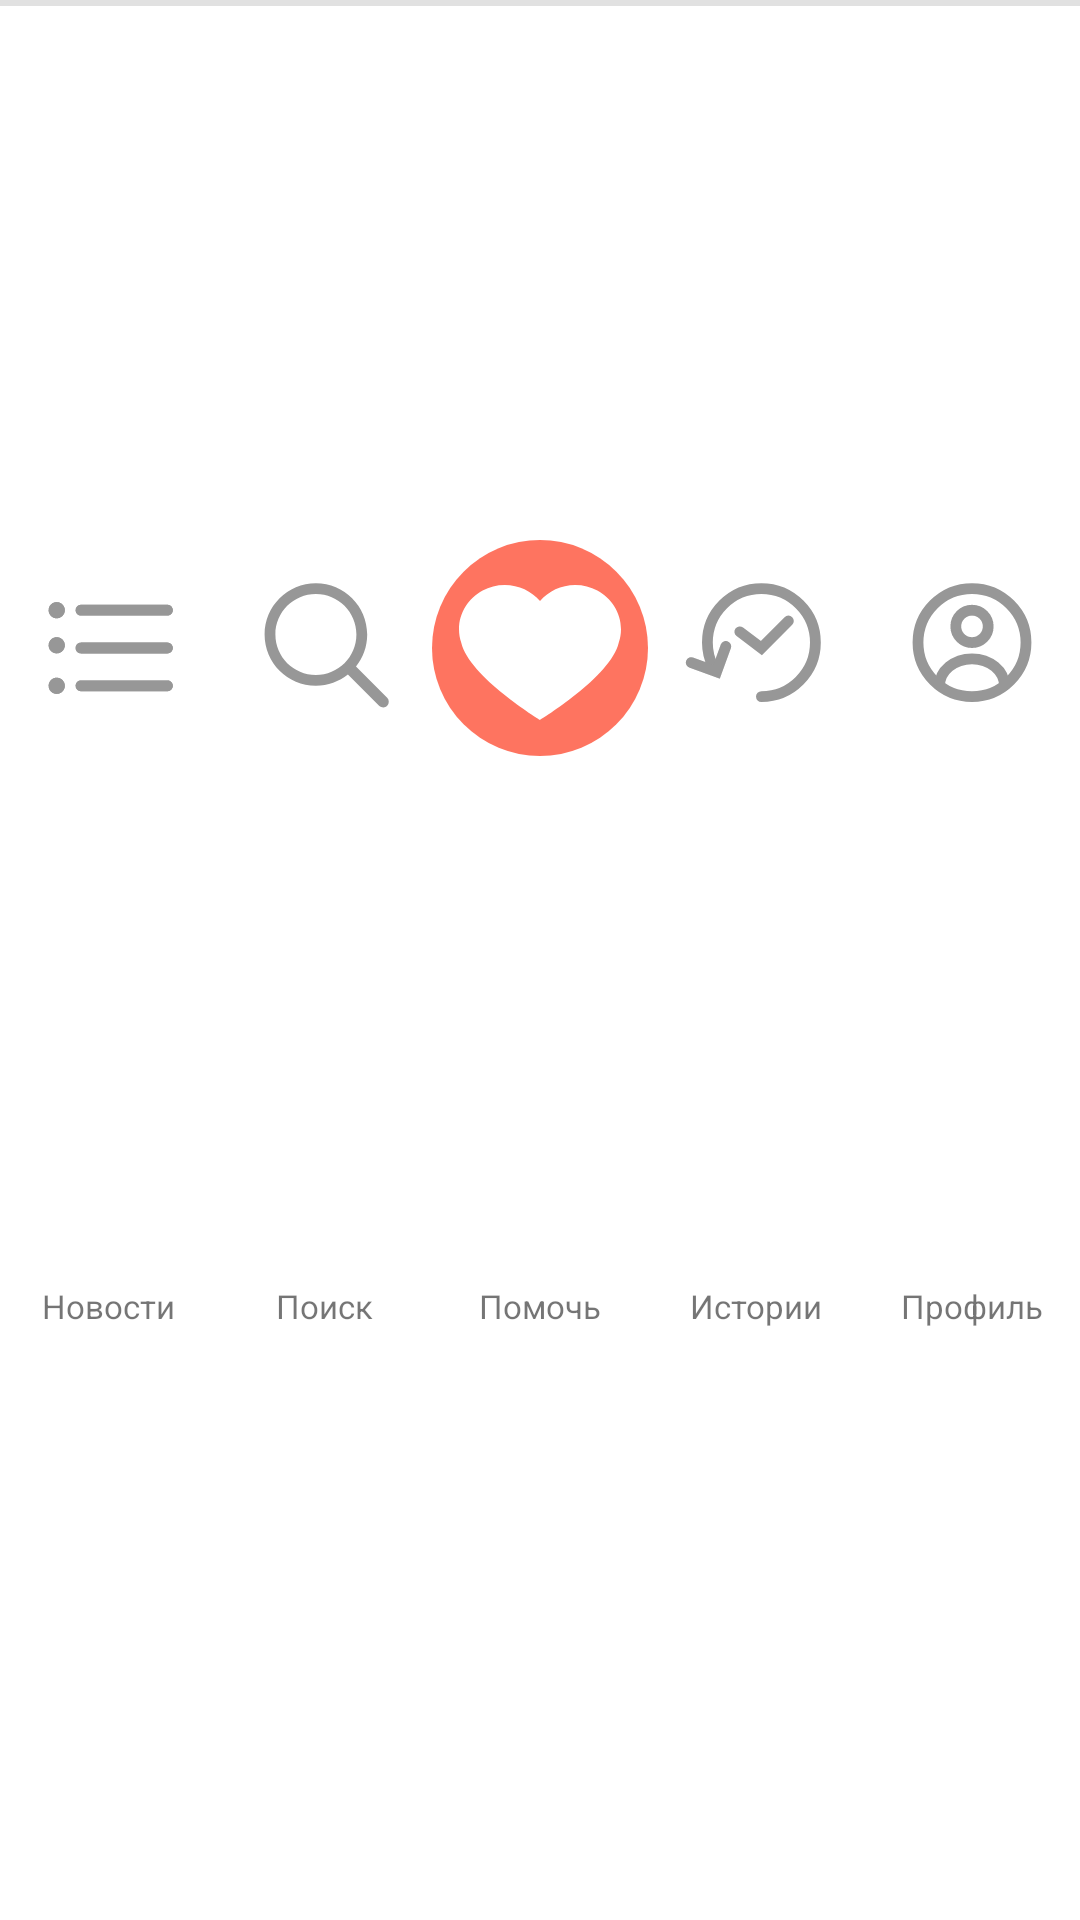

Named icons in this screenshot (1080 × 1920) and their bounding boxes, (x1, y1, x2, y2):
history: (686, 583, 821, 702)
news: (48, 602, 173, 694)
profile: (912, 583, 1032, 702)
search: (264, 583, 389, 708)
